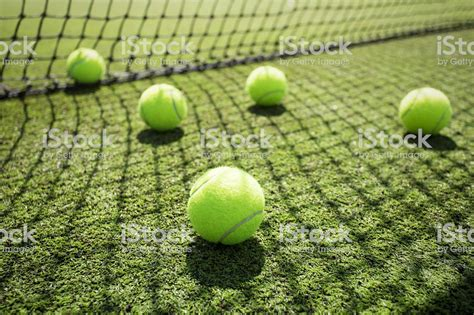tennis_ball: (187, 166, 265, 245), (399, 87, 451, 135), (138, 83, 187, 132), (246, 66, 288, 106), (65, 48, 105, 86)
